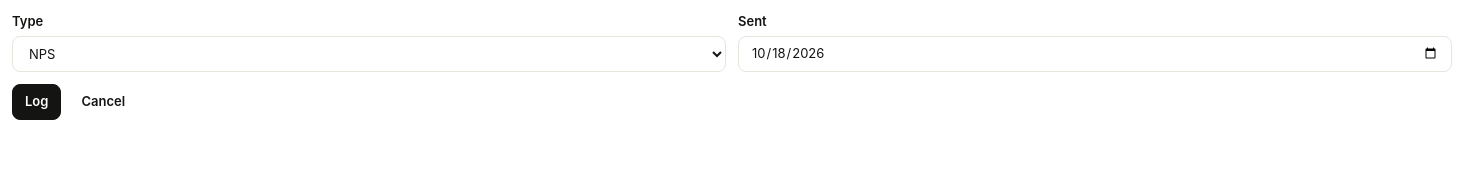
Test: LogSurveyForm (the "Log survey" flow the organization page reuses) › shows why a log failed and stays open
Click the button "Log".
click(37, 102)  # box [12,84,61,120]
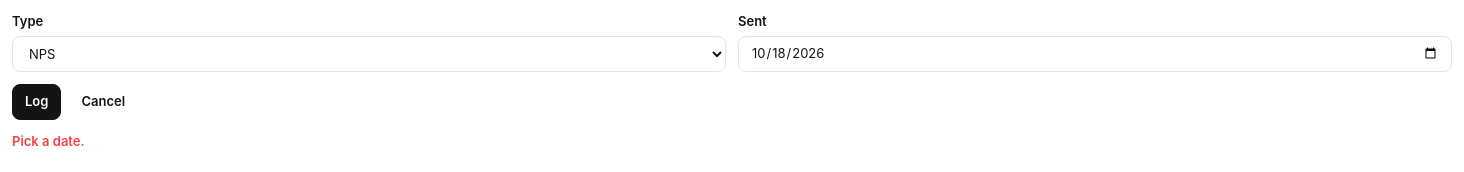
Expected: the text "Pick a date." is shown, [12,132,85,148]
